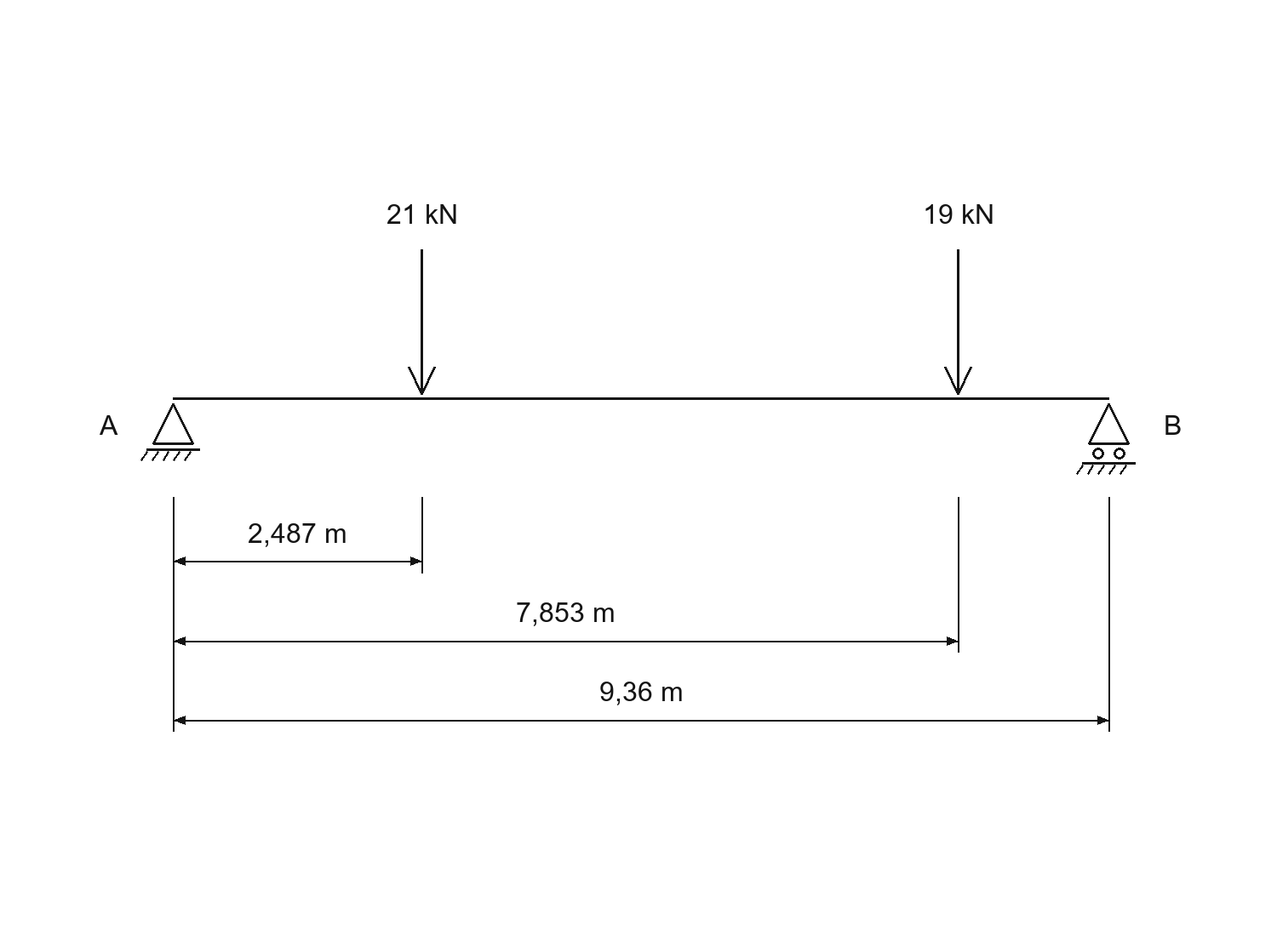pin_support: (140, 403, 200, 461)
point_load: (408, 249, 436, 395), (944, 249, 972, 395)
roller_support: (1076, 403, 1136, 475)
